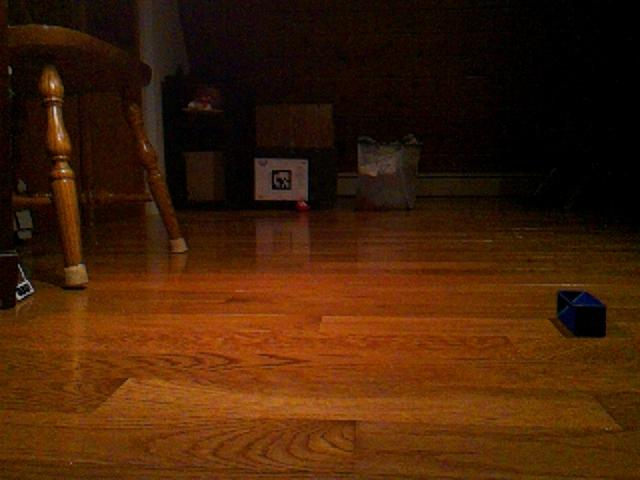blue: (555, 287, 608, 339)
